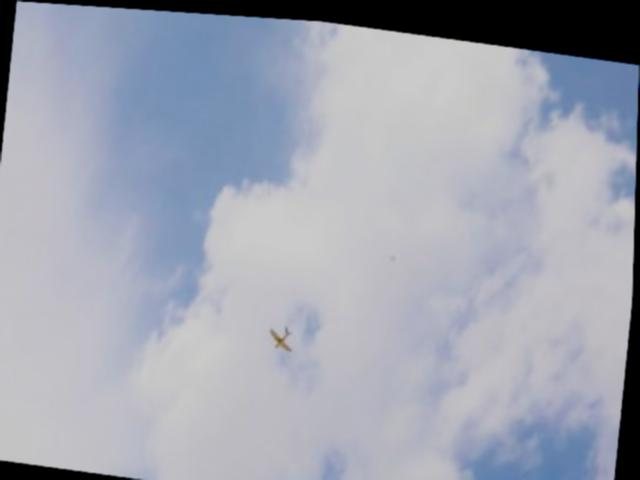uav: (266, 319, 301, 351)
